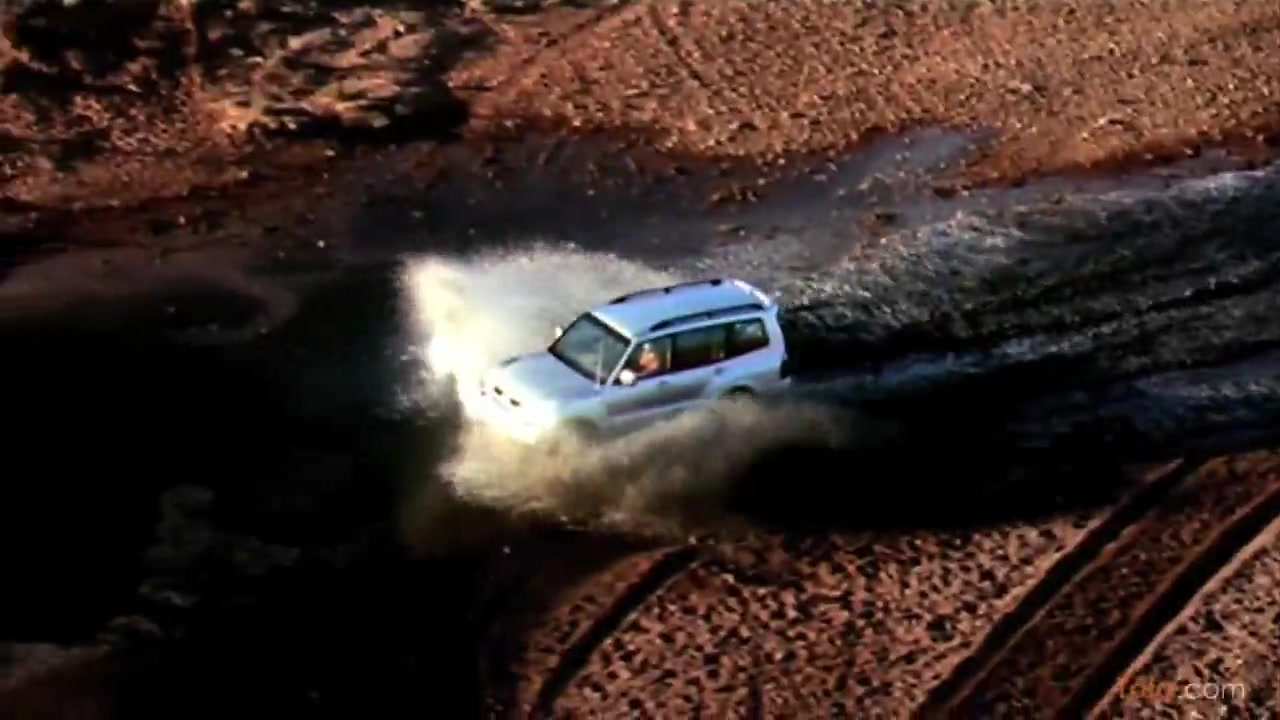car: (479, 275, 796, 457)
